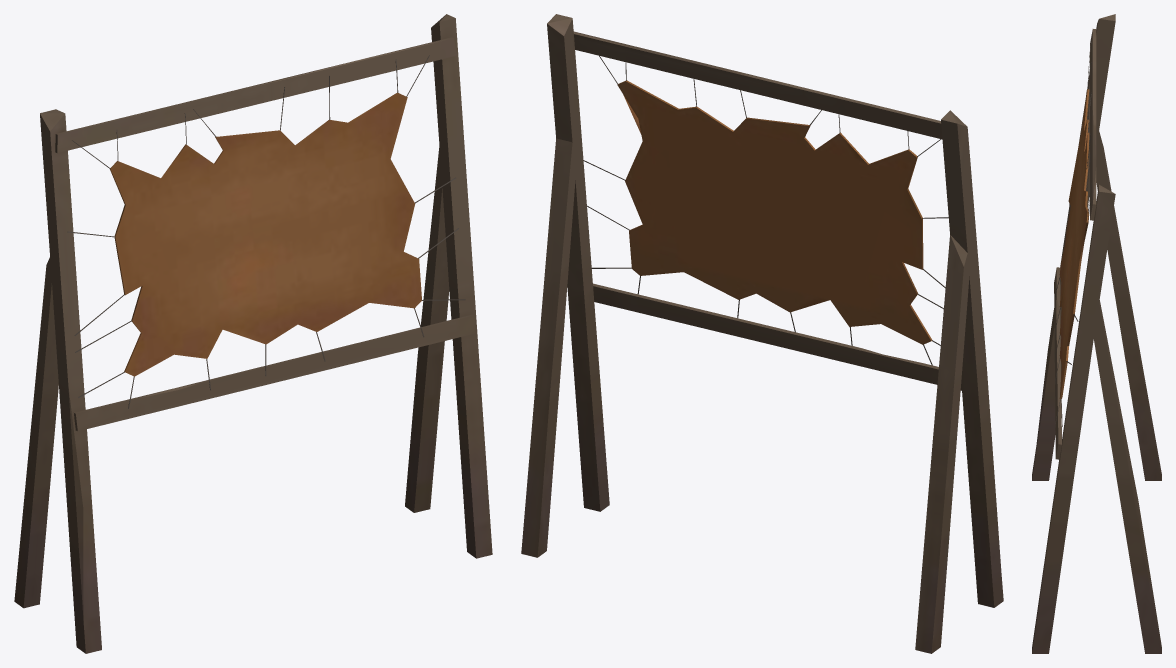
Rendered from leather.glb.
The picture shows the model from 3 angles, left to right: view 1: azimuth 30°, elevation 25°; view 2: azimuth 150°, elevation 25°; view 3: azimuth 270°, elevation 25°; orthographic projection. The views are drawn at different scales.
Bounding box in the file's own units: 1.09 × 1.31 × 0.3323.
1 material, 1 textured.
